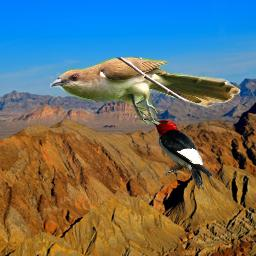Cuckoo: (50, 57, 242, 124)
Woodpecker: (145, 118, 214, 194)
